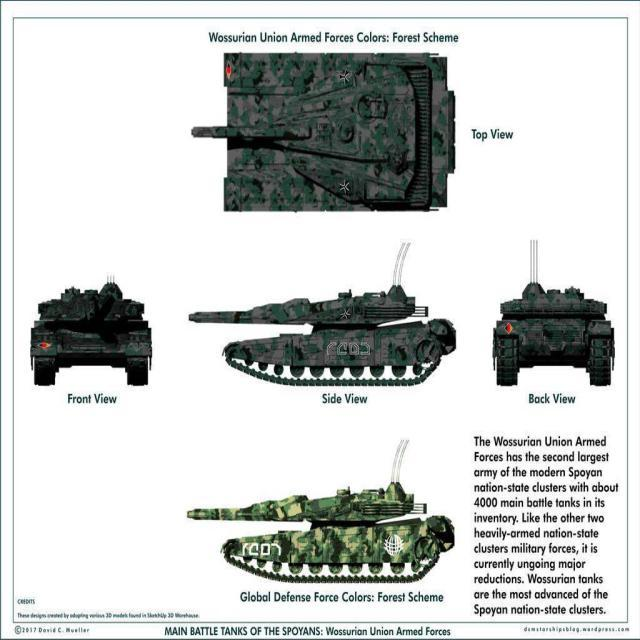MIL_MBT: (185, 52, 462, 220), (185, 253, 453, 403), (191, 454, 452, 585), (26, 272, 160, 399), (487, 237, 575, 391)
